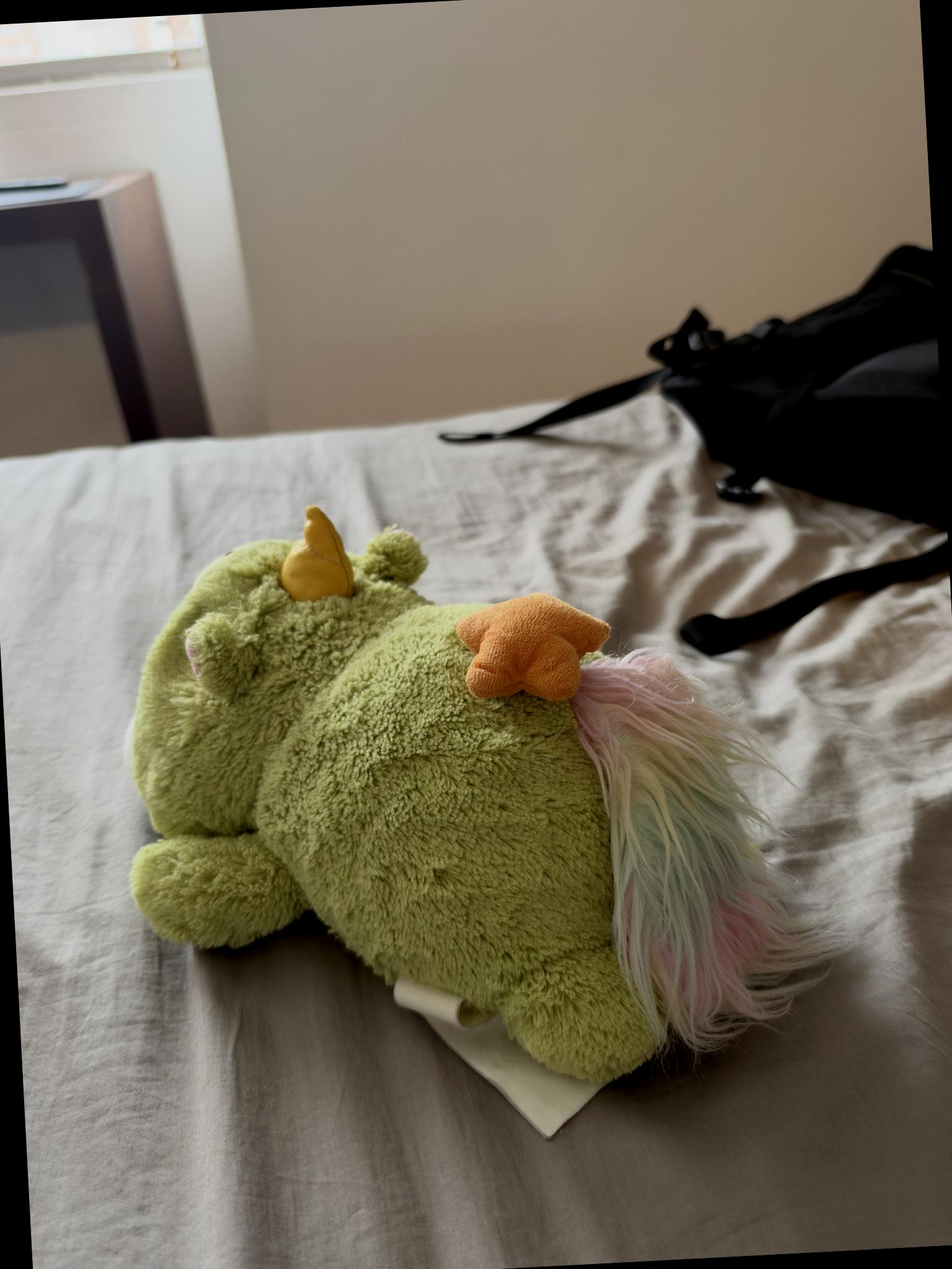peluche_martin: (109, 477, 846, 1112)
